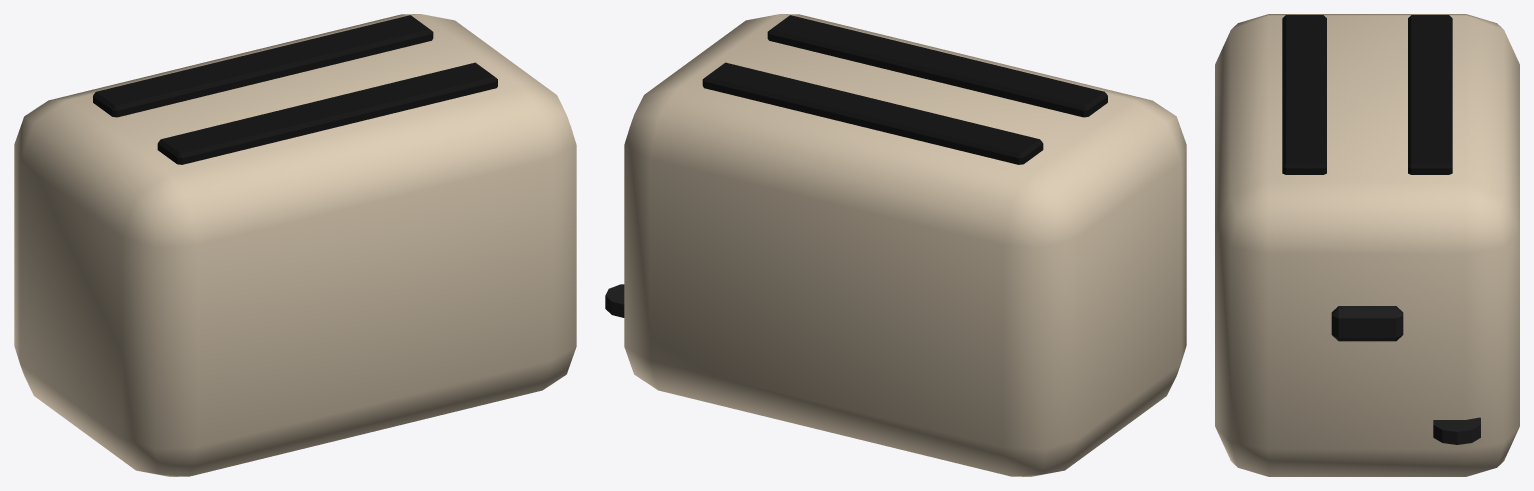
The model's file is i_kit_10.glb.
The picture shows the model from 3 angles, left to right: view 1: azimuth 30°, elevation 25°; view 2: azimuth 150°, elevation 25°; view 3: azimuth 270°, elevation 25°; orthographic projection. The views are drawn at different scales.
Parts seen in each view (by area): view 1: o, o.001, o.002; view 2: o, o.002, o.001; view 3: o, o.001, o.002, o.003, o.004.
Boxes of the visible parts, bbox=[...] form: o: bbox=[14, 14, 576, 476]; o.001: bbox=[157, 62, 497, 164]; o.002: bbox=[93, 15, 433, 117]; o: bbox=[624, 14, 1186, 476]; o.002: bbox=[702, 62, 1043, 164]; o.001: bbox=[767, 15, 1107, 117]; o: bbox=[1215, 14, 1519, 476]; o.001: bbox=[1282, 15, 1326, 174]; o.002: bbox=[1408, 15, 1452, 174]; o.003: bbox=[1331, 306, 1403, 341]; o.004: bbox=[1433, 417, 1480, 444].
Size of the model in its own units: 0.296 by 0.186 by 0.17.
